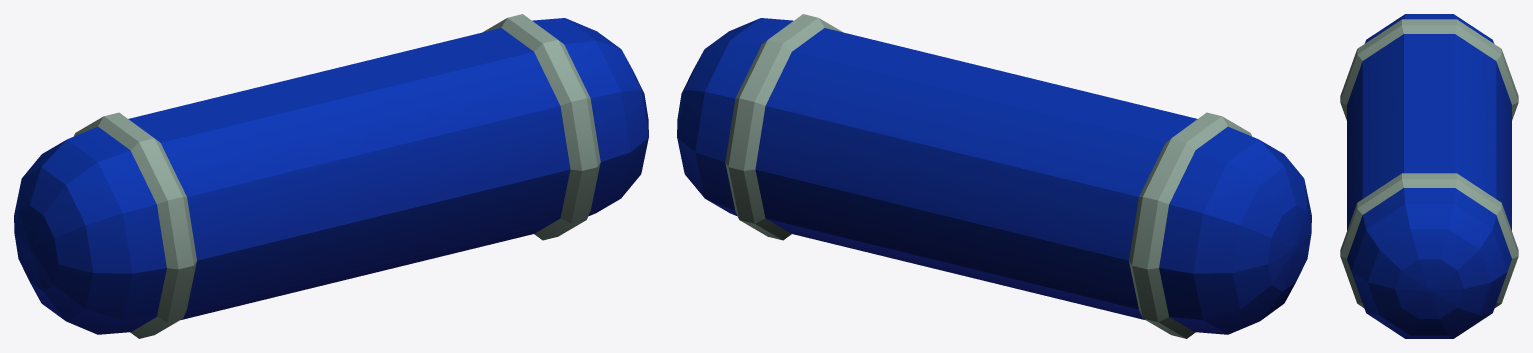
The model's file is item_010.fbx.
The picture shows the model from 3 angles, left to right: view 1: azimuth 30°, elevation 25°; view 2: azimuth 150°, elevation 25°; view 3: azimuth 270°, elevation 25°; orthographic projection. The views are drawn at different scales.
Parts seen in each view (by area): view 1: item.010; view 2: item.010; view 3: item.010.
Part boxes in pixels (x1,y1,x2,y2): item.010: (14,14,648,338); item.010: (677,14,1311,338); item.010: (1340,14,1518,338).
Bounding box in the file's own units: 255 × 80.1 × 84.22.
